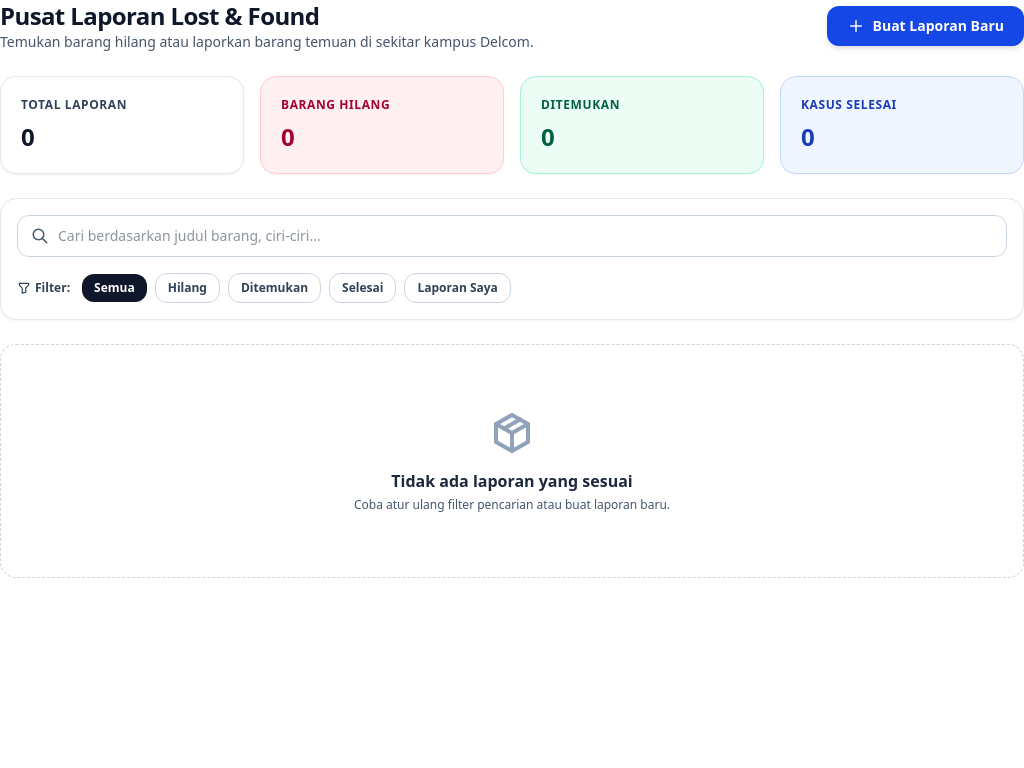
Scenario: HomePage › should open and close add report modal
Expected: the text "Tambah Laporan Baru" is not shown
Click the button "Buat Laporan Baru": (925, 26) [826, 6, 1023, 46]
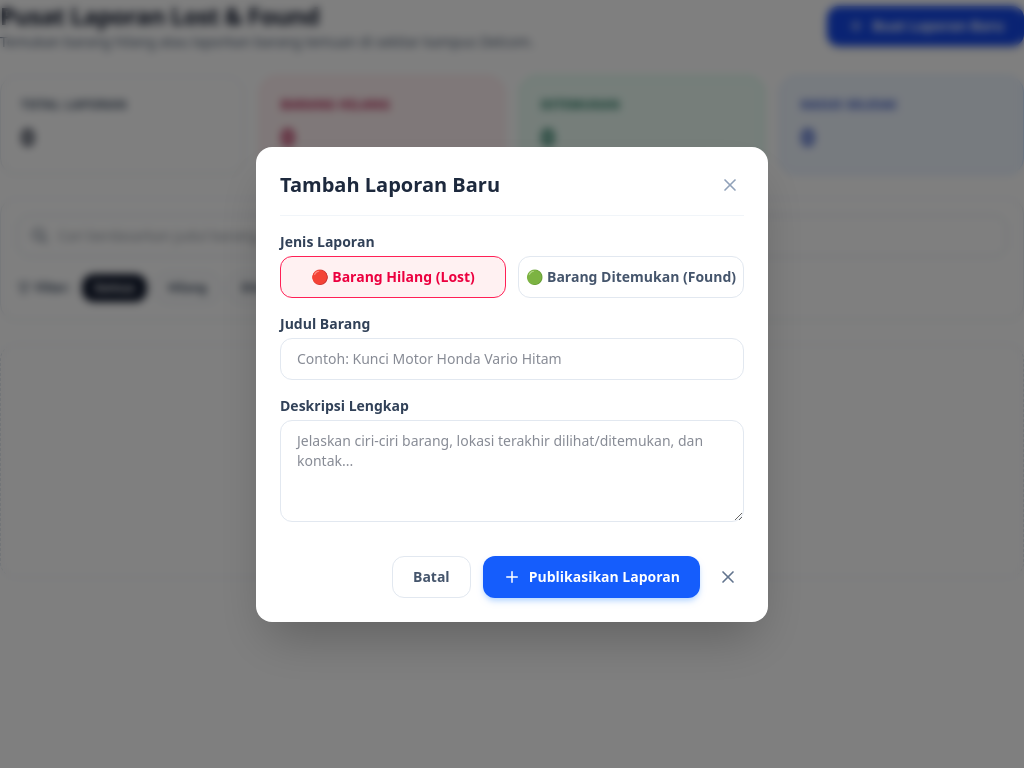
Now the heading "Tambah Laporan Baru" is shown, box [280, 170, 500, 198]
Click the button with aria-label "Batal Tambah Laporan": (431, 576) [392, 556, 471, 598]
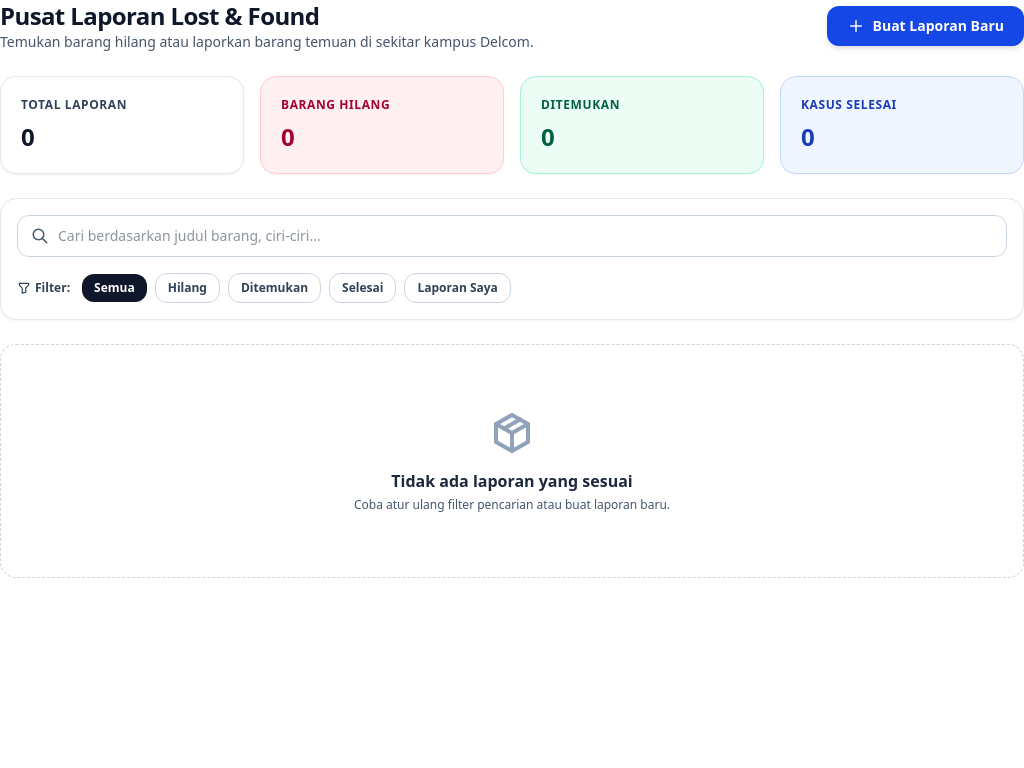
Now the heading "Tambah Laporan Baru" is gone
